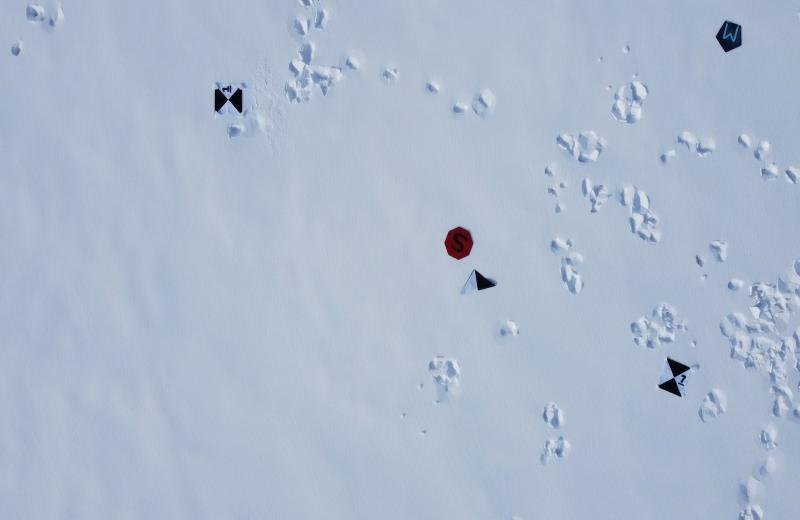Octagon: (445, 226, 475, 263)
Pentagon: (715, 19, 744, 54)
